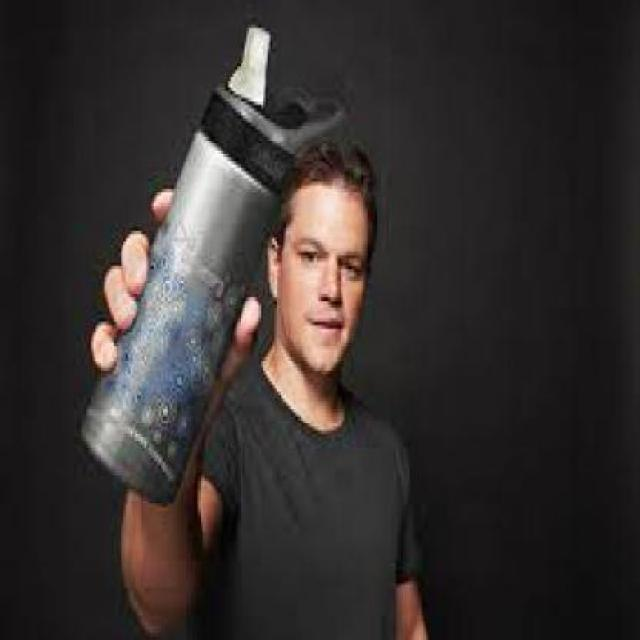Drinking: (93, 59, 307, 490)
